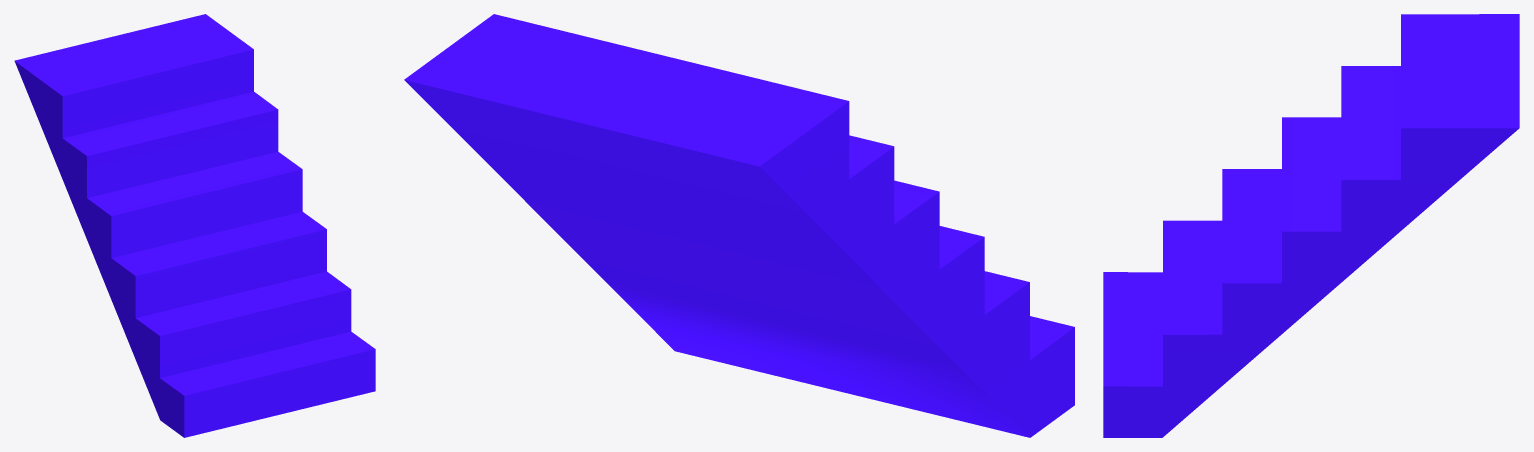
File: 3c5451f1-bbe9-4b80-a96c-2bcb5f91ceb0.glb
The picture shows the model from 3 angles, left to right: view 1: azimuth 30°, elevation 25°; view 2: azimuth 150°, elevation 25°; view 3: azimuth 270°, elevation 25°; orthographic projection. The views are drawn at different scales.
Parts seen in each view (by area): view 1: BaseStairs.006; view 2: BaseStairs.006; view 3: BaseStairs.006.
Boxes of the visible parts, box(x1,y1,x2,y2) form: BaseStairs.006: box(14, 14, 375, 437); BaseStairs.006: box(404, 14, 1074, 437); BaseStairs.006: box(1103, 14, 1519, 437).
Size of what is drawn, in the model's own units: 1.36 by 1.71 by 2.09.
Materials: 1 (1 with a texture image).
